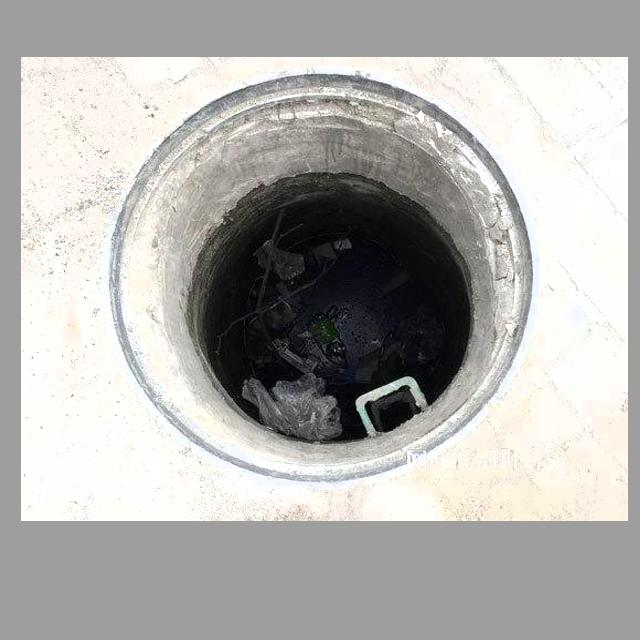lose: (99, 64, 541, 483)
